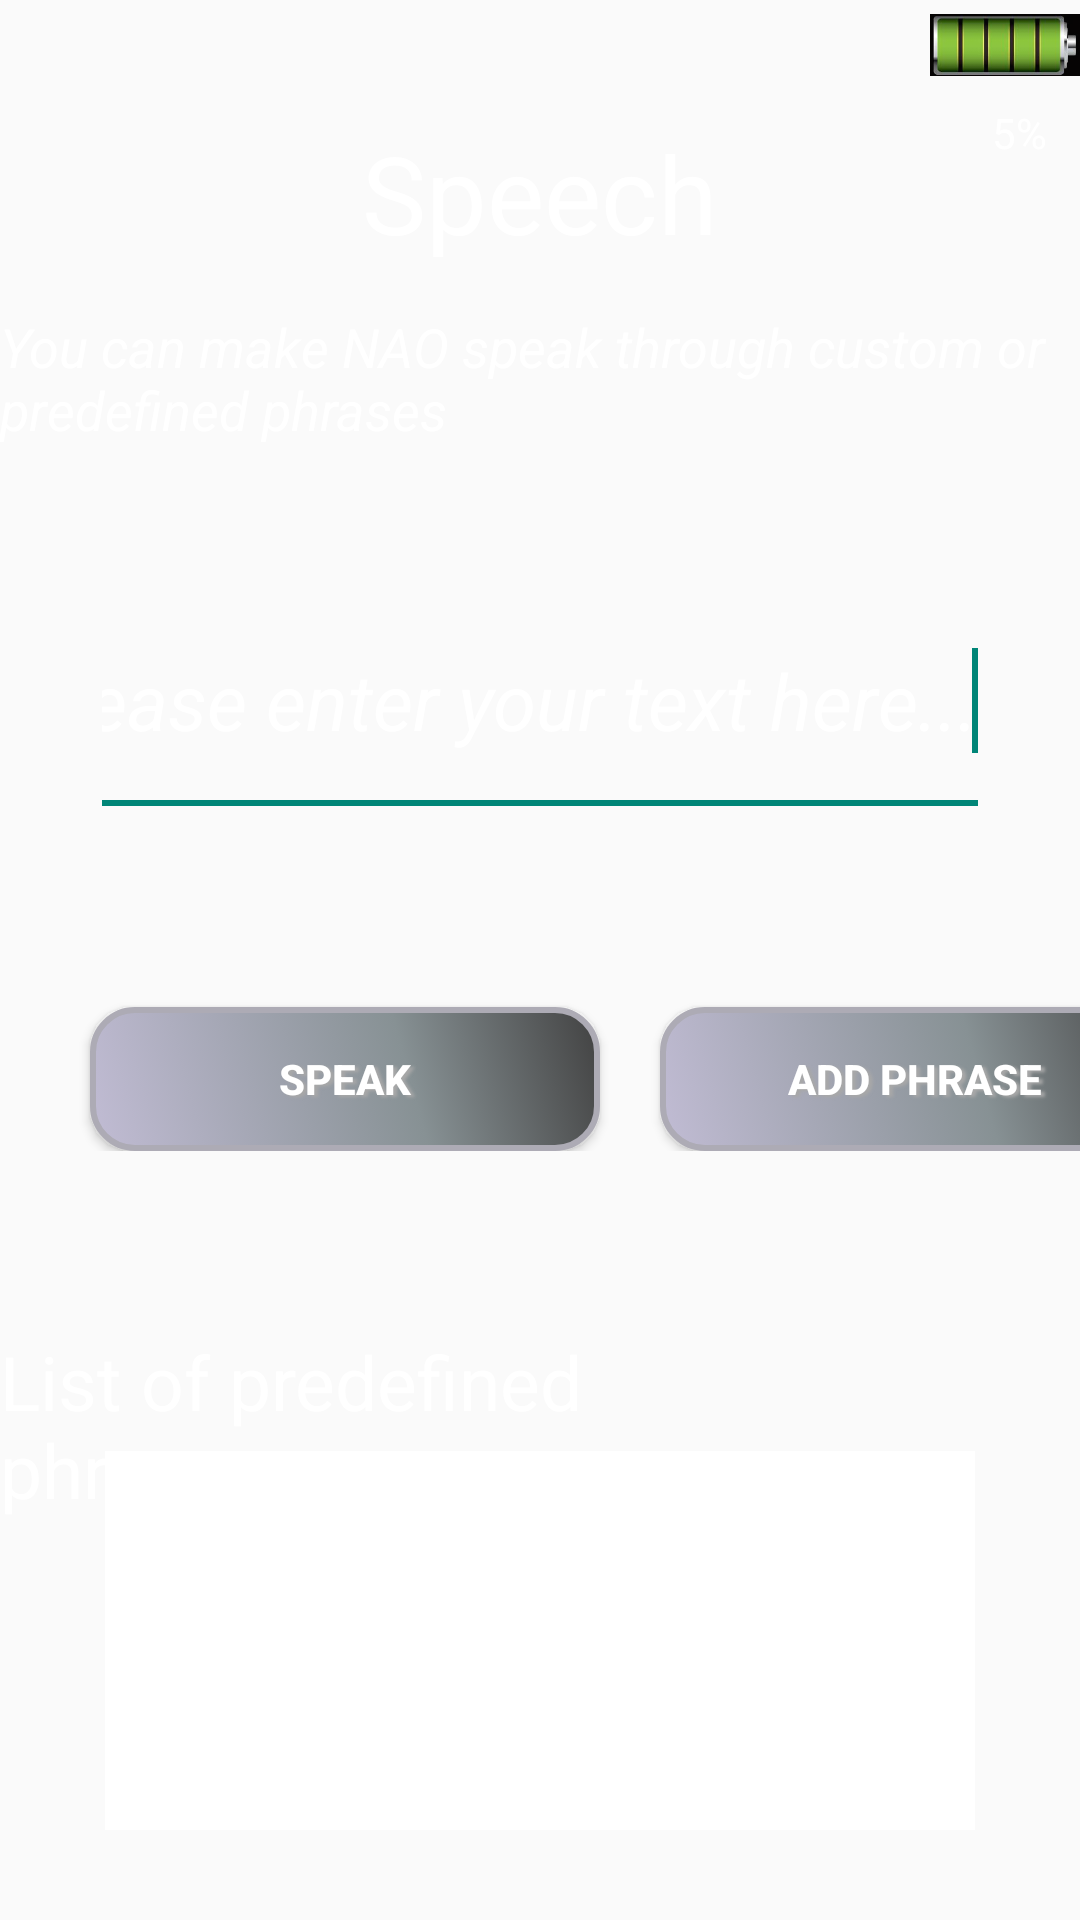

Screen size 1080 × 1920. Icon name, then its box in pixels as rect(x1, y1, x2, y2):
battery full: rect(930, 14, 1080, 76)
